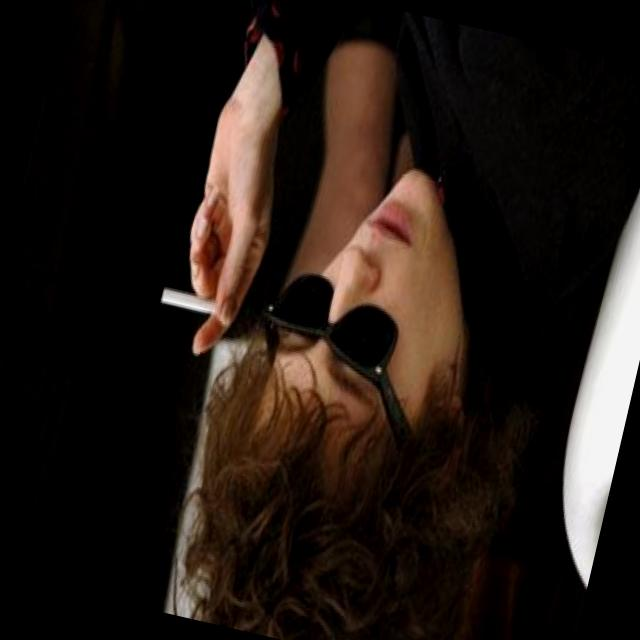smoke: (146, 270, 248, 342)
